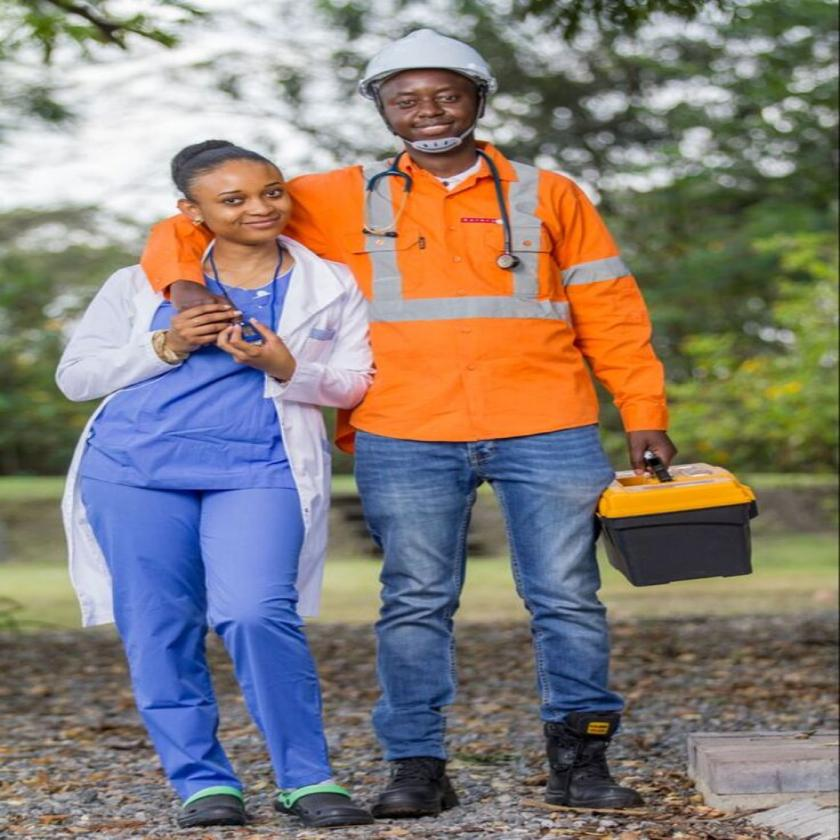Con_casco: (354, 30, 498, 172)
Sin_casco: (164, 141, 298, 252)
